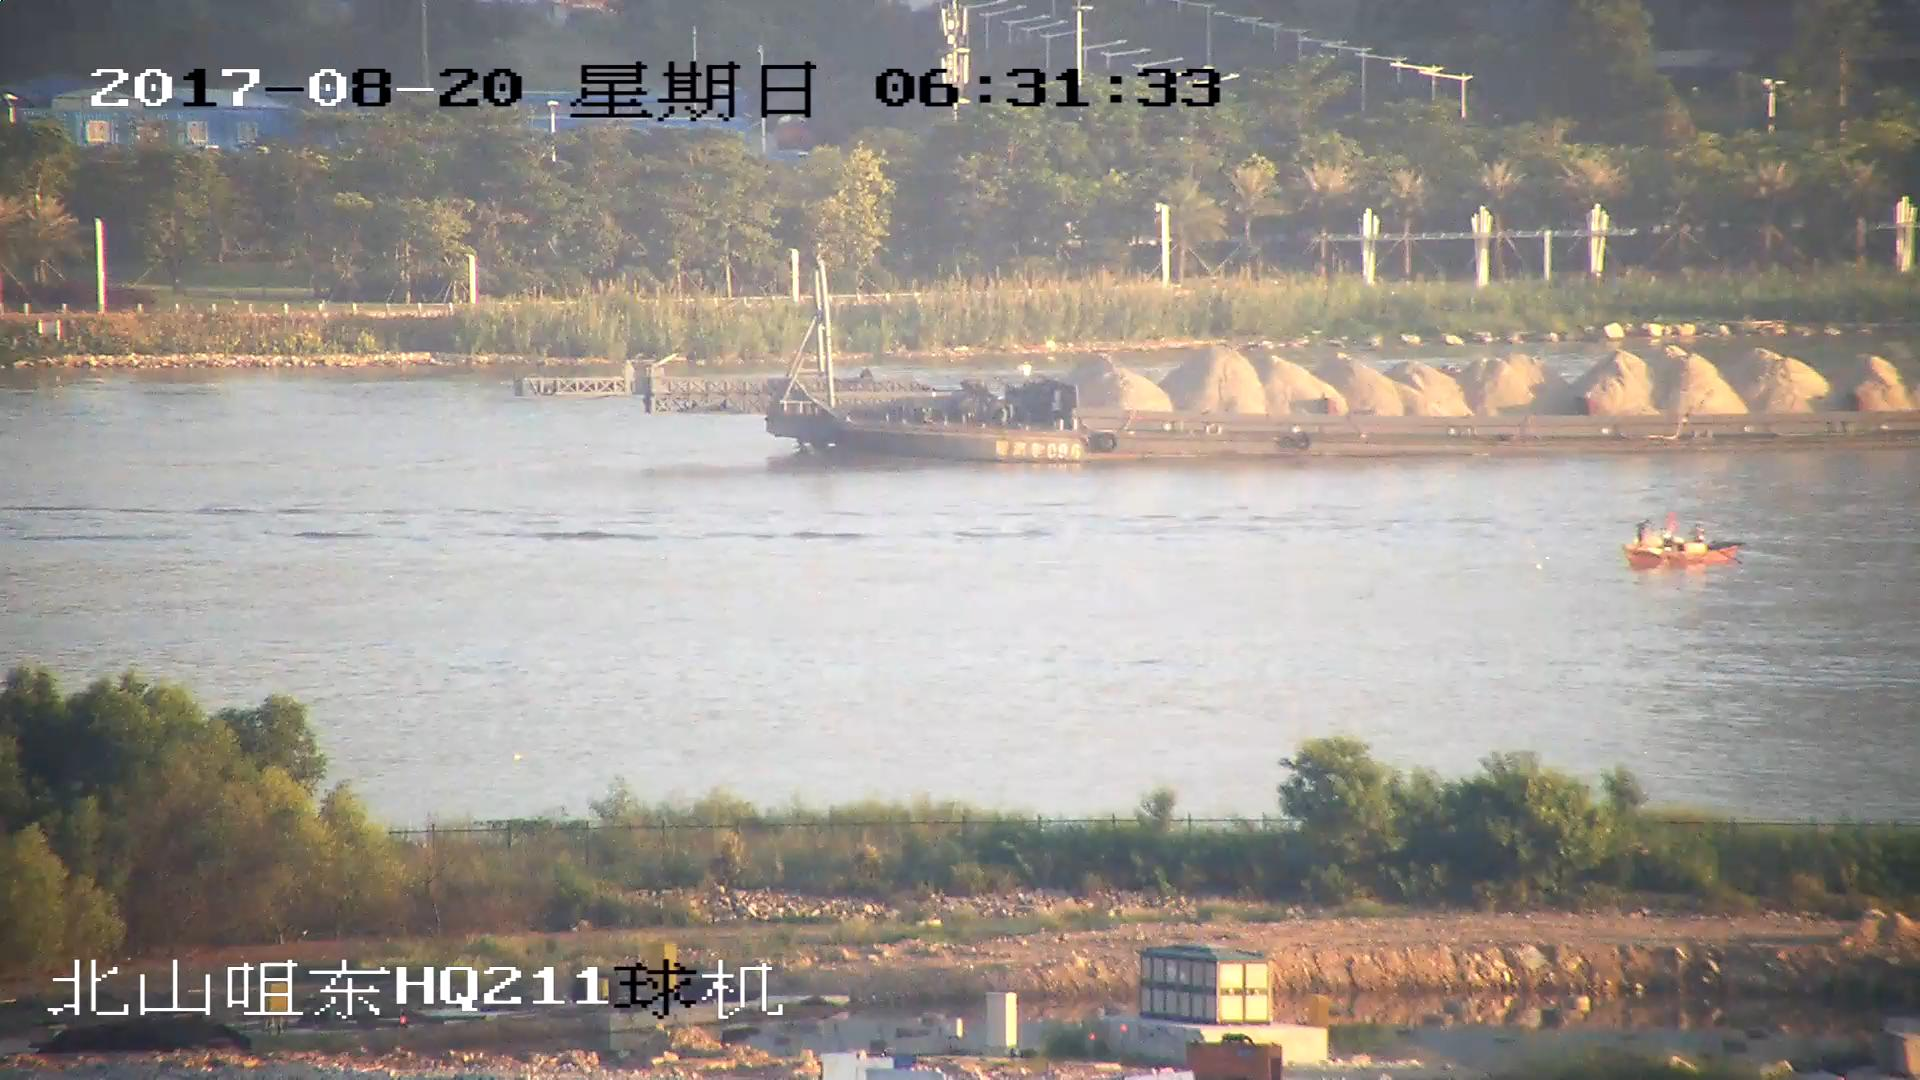fishing boat: (1624, 510, 1749, 570)
ore carrier: (526, 247, 1920, 470)
